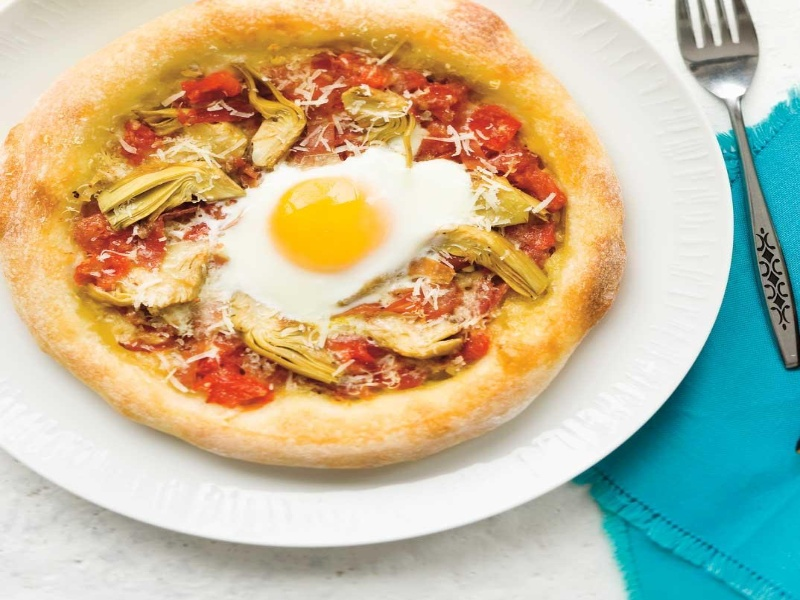oeuf: (259, 168, 405, 277)
